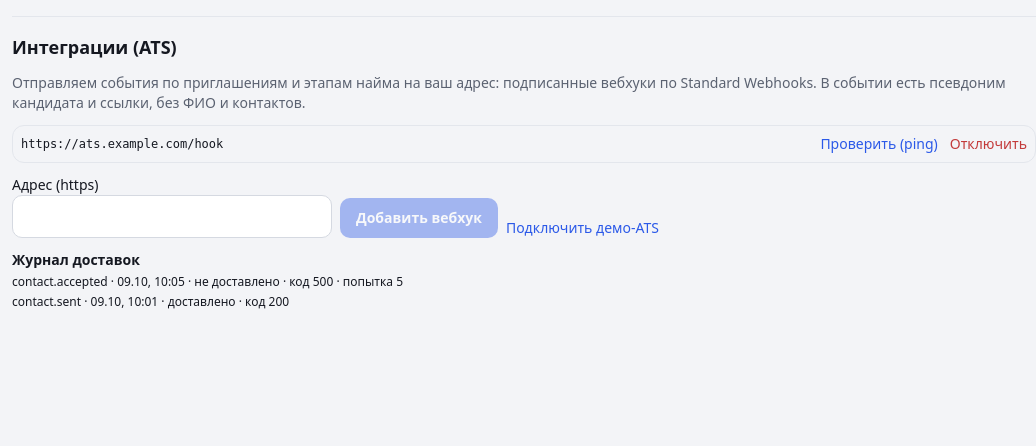
Test case: integrations (ATS) › connects the demo mock ATS and links to its page; the button is hidden when mocks are off
The width and height of the screenshot is (1036, 446).
Click the button "Подключить демо-ATS" at (582, 228), box [506,218,659,238]
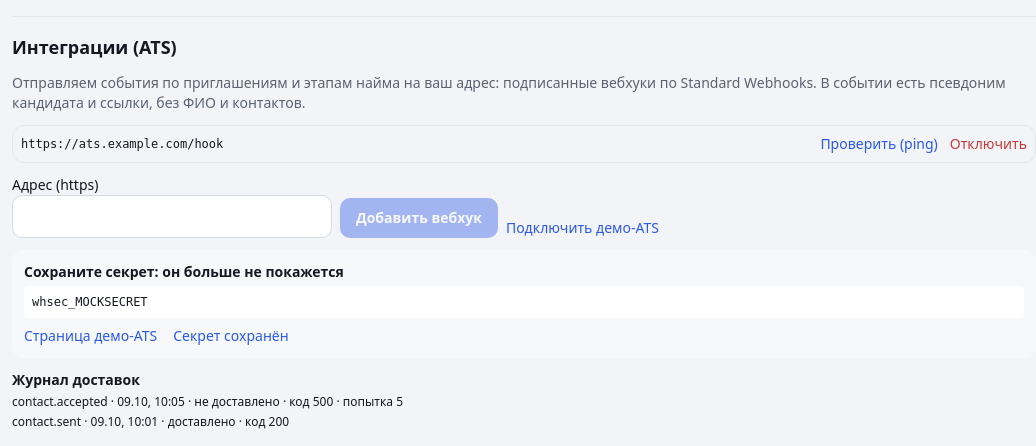
Now the text "whsec_MOCKSECRET" is shown, box [24,286,1024,318]
